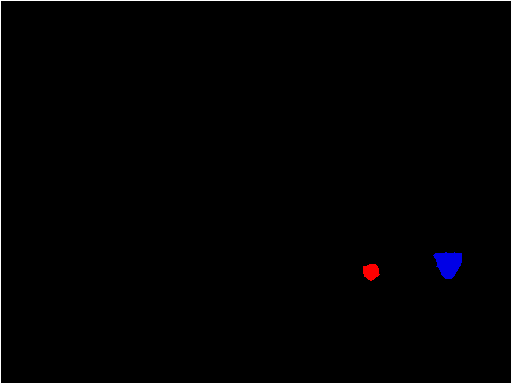chipped: (439, 253, 459, 280)
detached: (362, 262, 379, 278)
